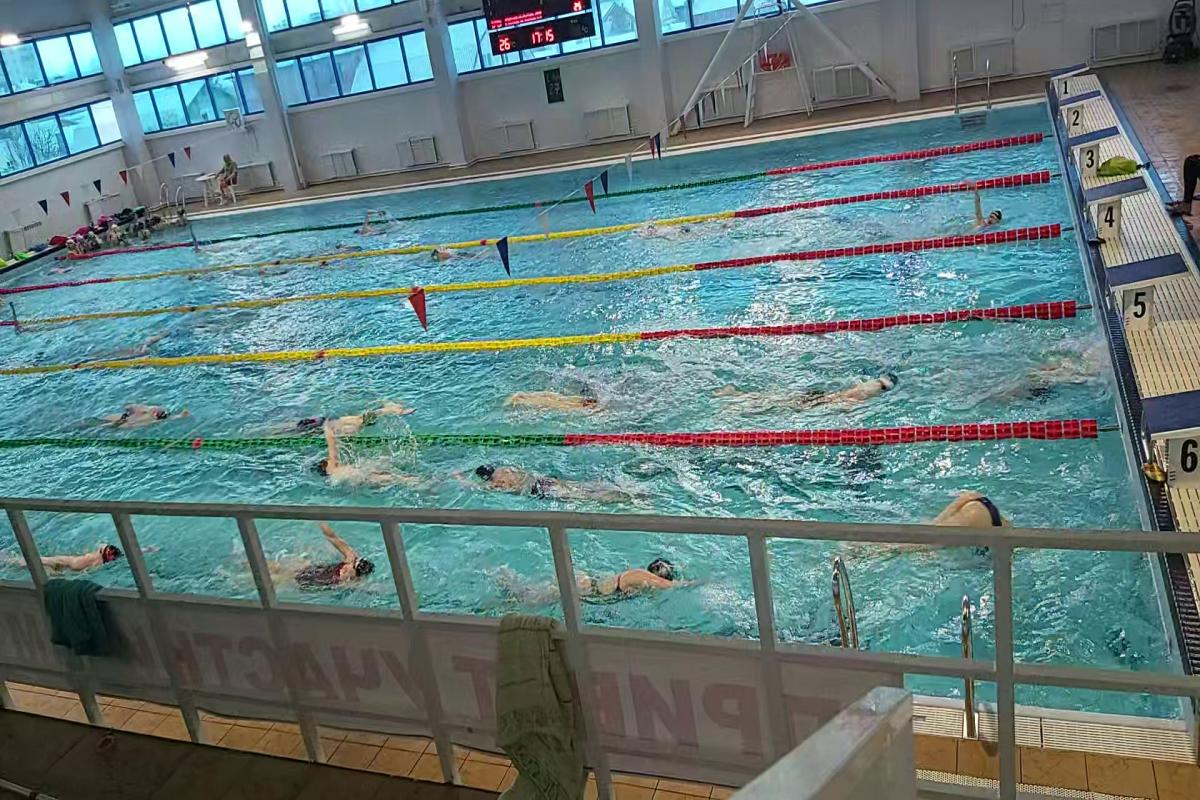swimmer: (704, 340, 900, 420), (494, 549, 713, 615), (465, 462, 649, 511), (310, 444, 442, 506), (268, 534, 388, 594), (476, 378, 626, 422), (900, 480, 1024, 530), (104, 399, 209, 433), (302, 406, 407, 435), (55, 540, 129, 577), (950, 192, 1008, 231), (422, 247, 480, 267), (353, 209, 391, 236)
